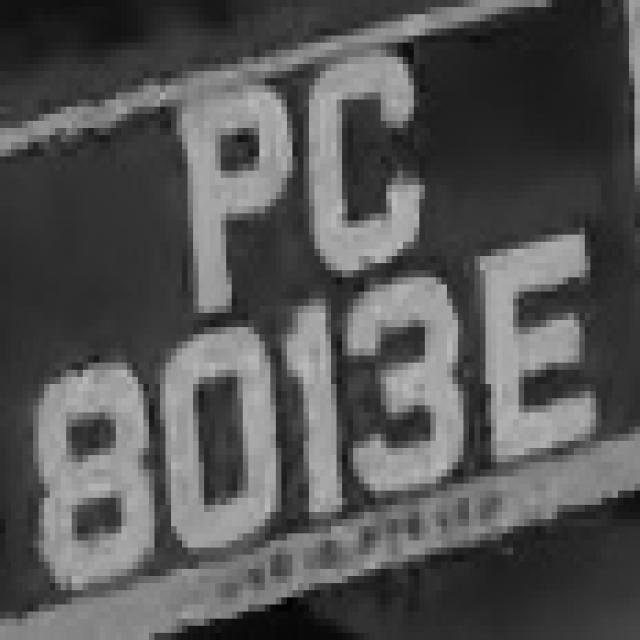0: (160, 320, 287, 569)
1: (276, 284, 358, 554)
3: (336, 270, 464, 498)
8: (33, 348, 166, 604)
C: (276, 28, 436, 292)
E: (469, 220, 612, 498)
P: (165, 57, 298, 313)
